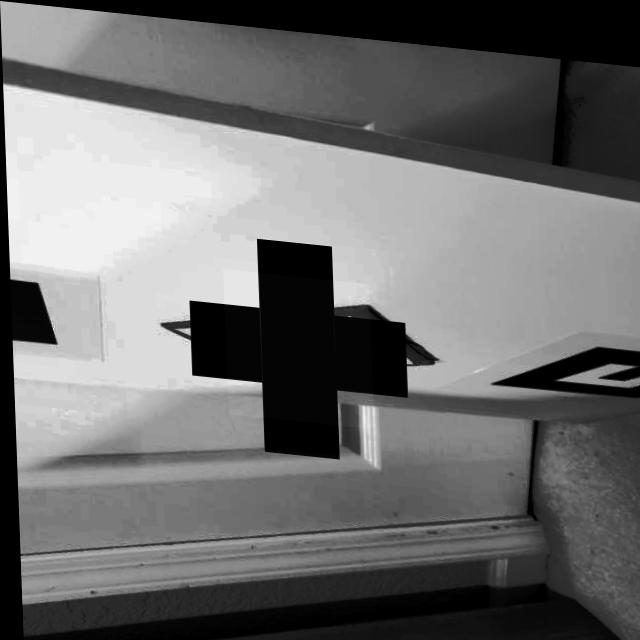qr_code: (221, 263, 371, 420)
